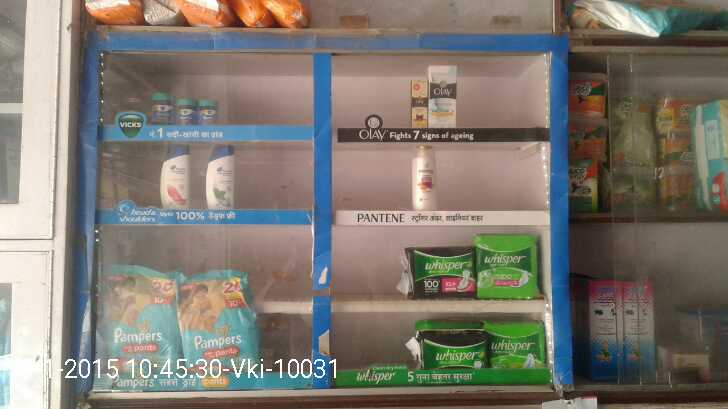vicks: (151, 92, 218, 126)
